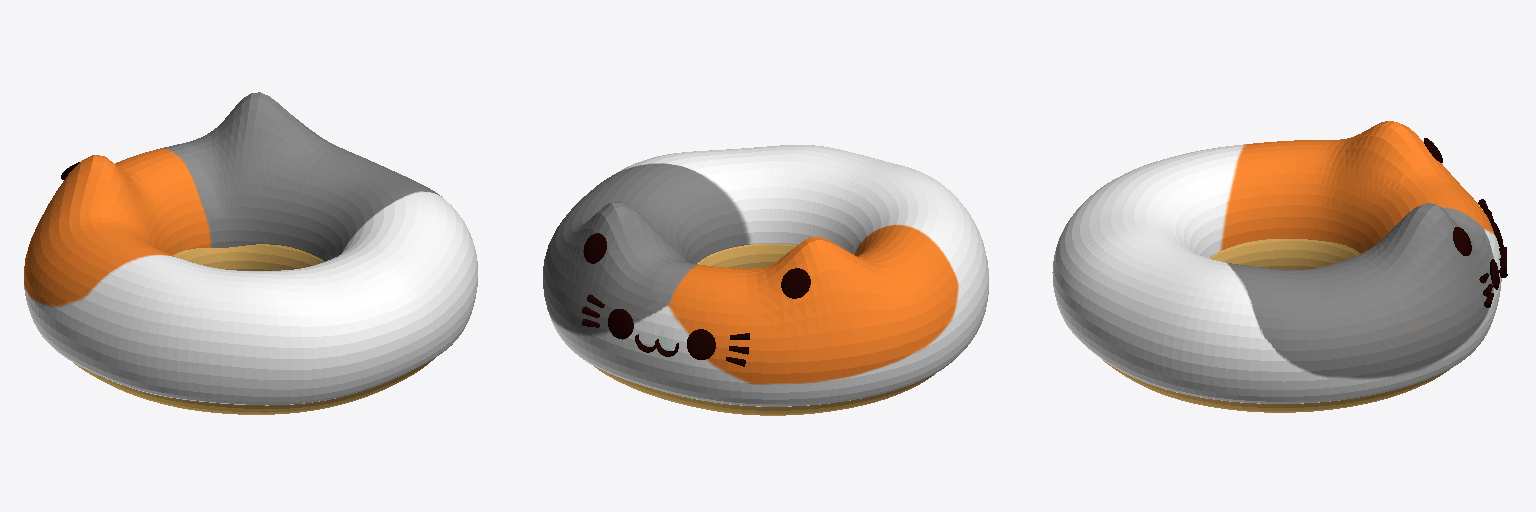
3 renders of one model, left to right at view 1: azimuth 30°, elevation 25°; view 2: azimuth 150°, elevation 25°; view 3: azimuth 270°, elevation 25°, orthographic.
Visible parts, largest first — view 1: 01_Icing_Shironeko.001_Torus.001, 00_Donut_Base.003_Torus.006; view 2: 01_Icing_Shironeko.001_Torus.001, 00_Donut_Base.003_Torus.006, 02_Cat_Eye_Dot_Right.003_Sphere.012, 02_Cat_Ear_Dot_Right.003_Sphere.003, 02_Cat_Eye_Dot_Left.003_Sphere.004, 02_Cat_Ear_Dot_Left.003_Sphere.002; view 3: 01_Icing_Shironeko.001_Torus.001, 00_Donut_Base.003_Torus.006.
Boxes of the visible parts, box(x1,y1,x2,y2) form: 01_Icing_Shironeko.001_Torus.001: box(24, 92, 477, 405); 00_Donut_Base.003_Torus.006: box(74, 244, 434, 414); 01_Icing_Shironeko.001_Torus.001: box(543, 145, 988, 406); 00_Donut_Base.003_Torus.006: box(594, 244, 934, 415); 02_Cat_Eye_Dot_Right.003_Sphere.012: box(687, 329, 715, 359); 02_Cat_Ear_Dot_Right.003_Sphere.003: box(781, 268, 810, 298); 02_Cat_Eye_Dot_Left.003_Sphere.004: box(608, 309, 633, 339); 02_Cat_Ear_Dot_Left.003_Sphere.002: box(583, 233, 606, 263); 01_Icing_Shironeko.001_Torus.001: box(1052, 121, 1501, 403); 00_Donut_Base.003_Torus.006: box(1103, 239, 1449, 412).
Bounding box in the file's own units: 1.14 × 0.4965 × 1.16.
Materials: 3 (3 with a texture image).